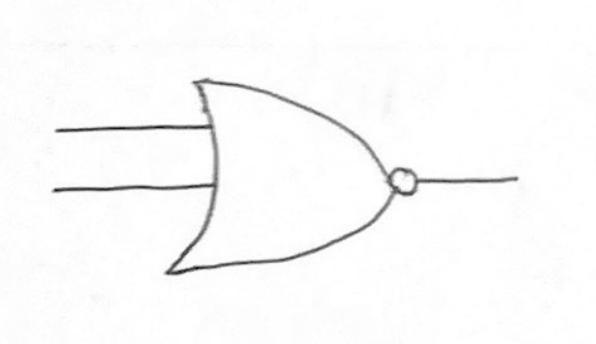NOR: (155, 49, 436, 295)
